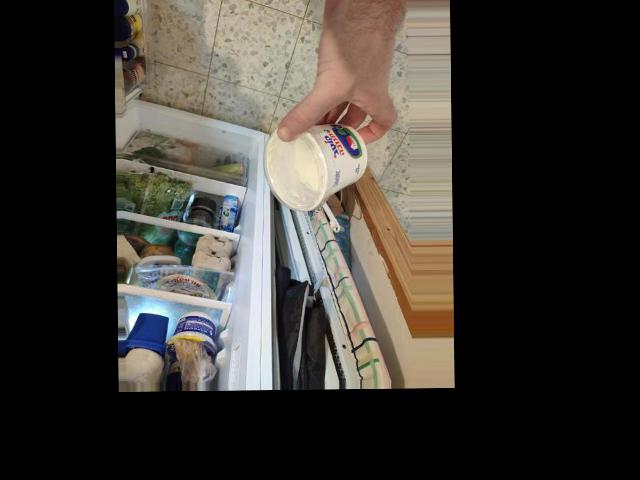cotage: (281, 125, 363, 204)
